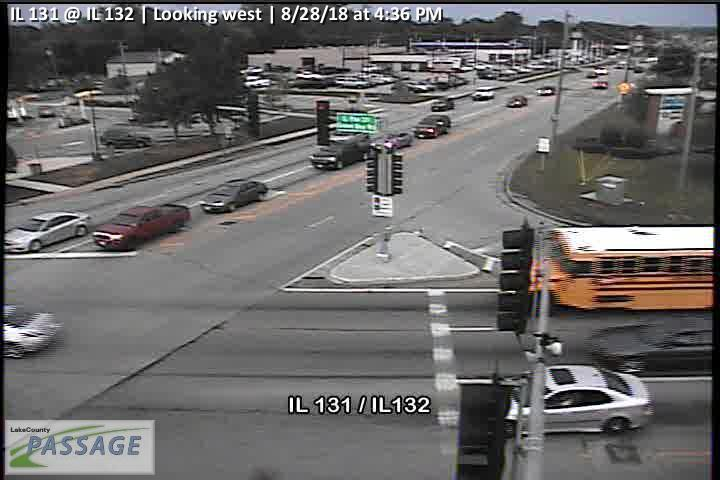Bus: (511, 226, 714, 314)
SUV: (310, 135, 370, 170)
Sedan: (476, 365, 652, 437), (587, 315, 713, 374), (3, 209, 94, 253), (198, 177, 266, 213), (101, 128, 153, 149), (410, 116, 451, 138), (371, 129, 411, 150)
Truck: (91, 202, 192, 250)
